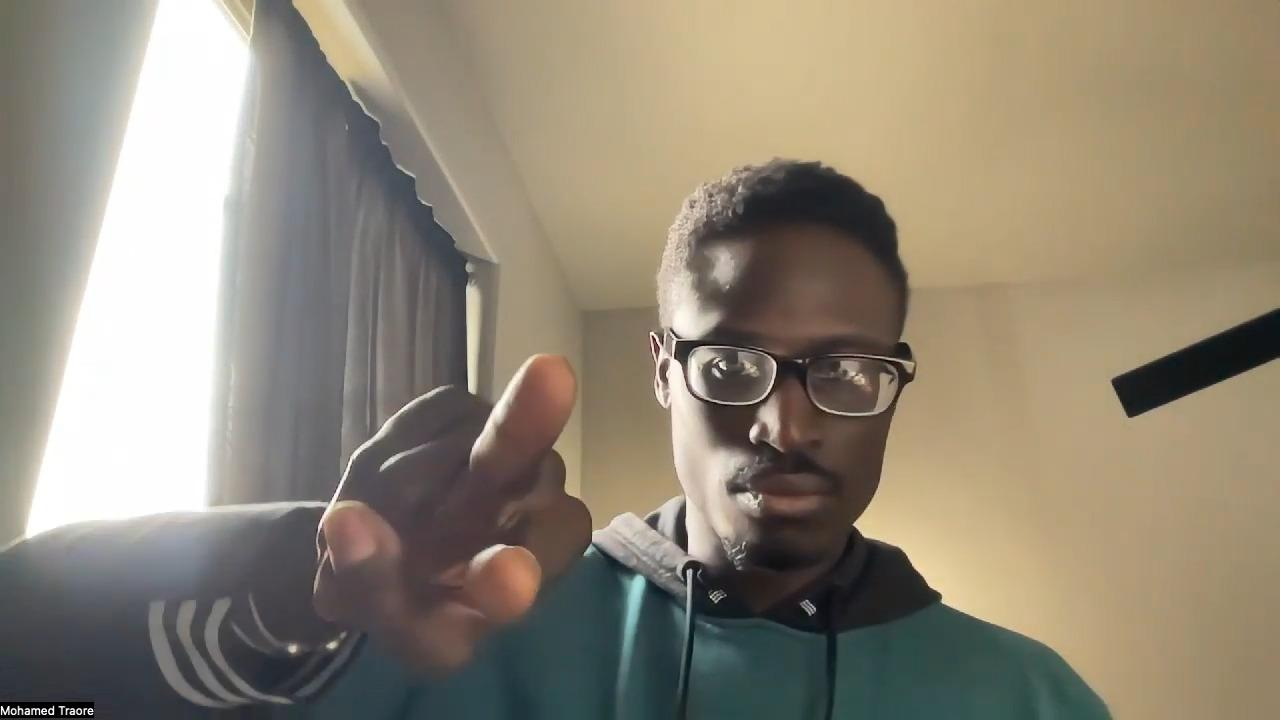Scissors: (315, 343, 593, 679)
